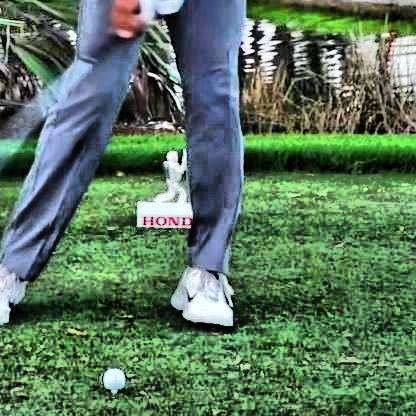golfball: (99, 364, 125, 389)
